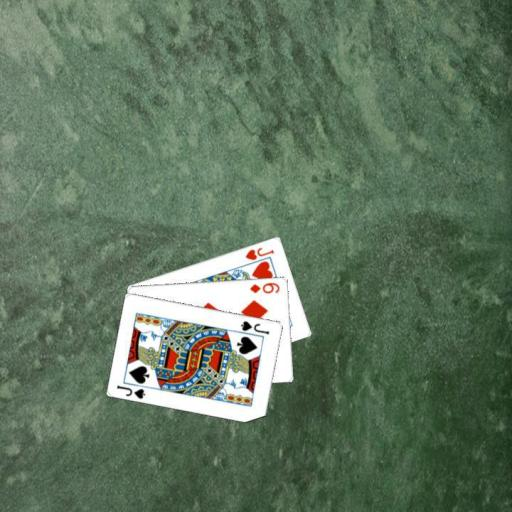6D: (247, 280, 282, 295)
JH: (243, 244, 275, 261)
JS: (237, 317, 271, 336), (114, 382, 146, 400)
